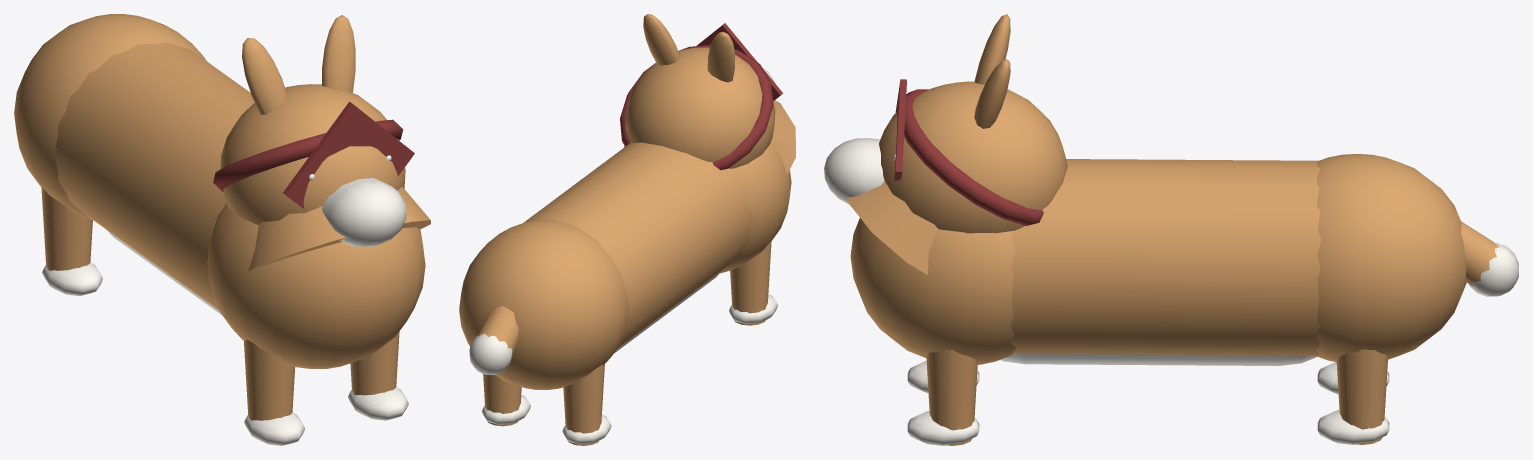
Rendered from h31-korgi.glb.
3 views of the same model, side by side, from view 1: azimuth 30°, elevation 25°; view 2: azimuth 150°, elevation 25°; view 3: azimuth 270°, elevation 25° (orthographic). The views are drawn at different scales.
Visible parts, largest first — view 1: Anjing Korgi, head, neck; view 2: Anjing Korgi, head, neck; view 3: Anjing Korgi, head, neck.
Part boxes in pixels (box(x1,y1,x2,y2)): Anjing Korgi: box(14, 14, 425, 445); head: box(220, 15, 406, 246); neck: box(213, 101, 430, 271); Anjing Korgi: box(459, 142, 791, 445); head: box(625, 14, 775, 168); neck: box(620, 23, 795, 173); Anjing Korgi: box(850, 154, 1518, 445); head: box(824, 14, 1067, 233); neck: box(847, 79, 1043, 274).
Bounding box in the file's own units: 0.26 × 0.4967 × 0.8256.
